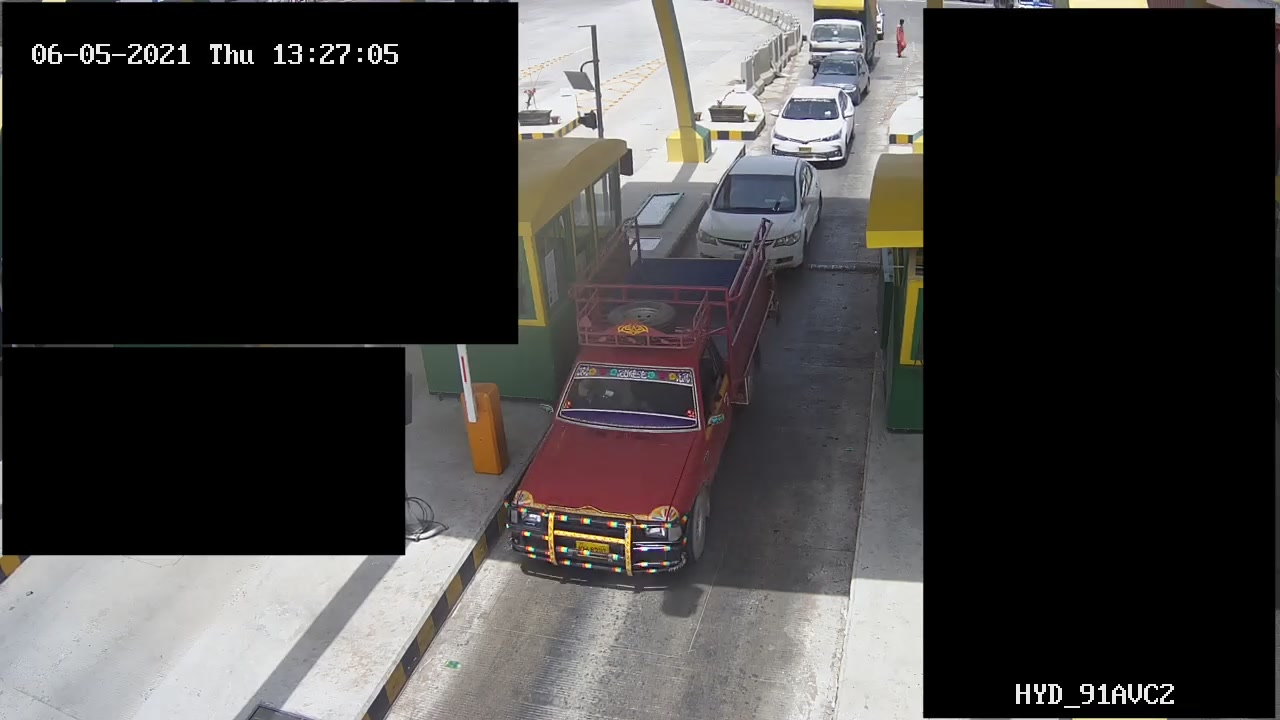F1: (501, 207, 788, 586)
